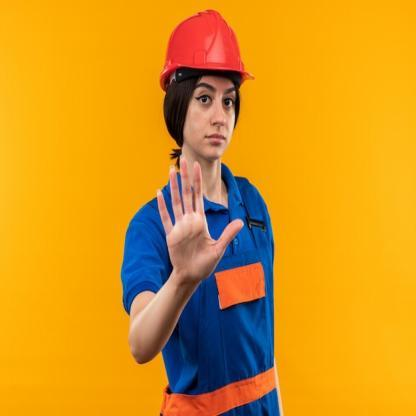stop: (154, 152, 245, 282)
